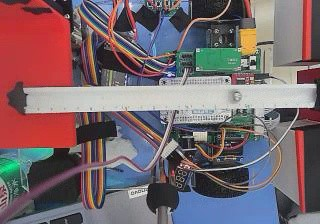ironball: (232, 91, 241, 100)
